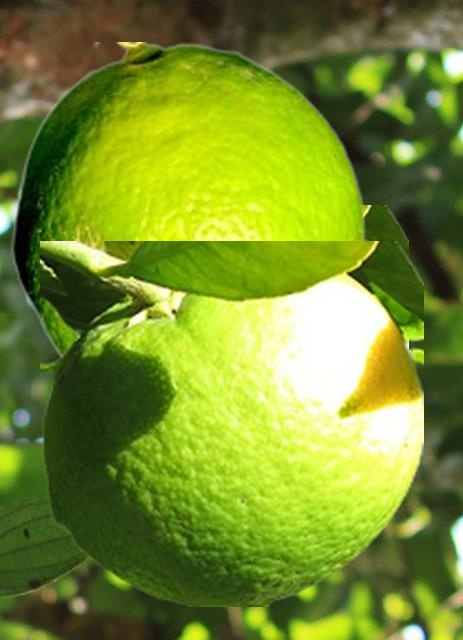dalandan: (40, 241, 422, 605), (11, 42, 365, 358), (366, 205, 407, 252)
